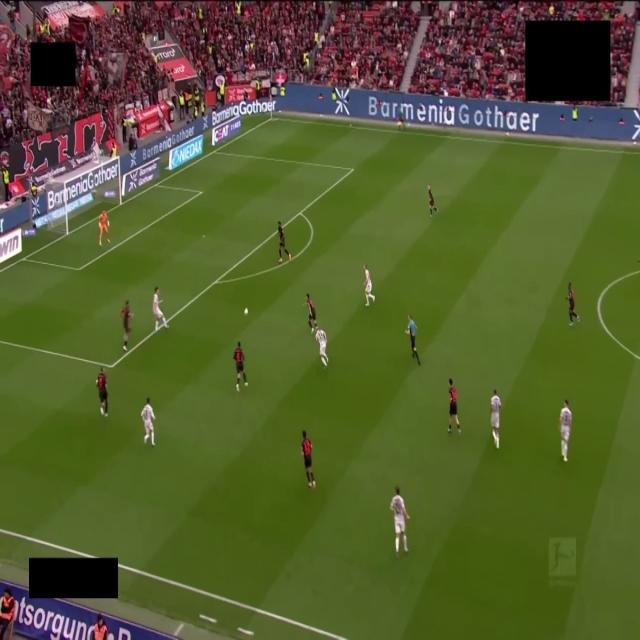ball: (244, 309, 248, 315)
player: (390, 487, 409, 555), (560, 400, 572, 462), (302, 431, 315, 488), (141, 398, 155, 446), (448, 378, 460, 433), (153, 288, 168, 331), (234, 342, 247, 391), (491, 390, 501, 448), (278, 222, 292, 263), (121, 301, 132, 351), (96, 368, 107, 416), (315, 328, 328, 368), (567, 283, 579, 326), (304, 294, 317, 333), (364, 264, 374, 306), (99, 210, 109, 246), (428, 185, 438, 215)
referee: (406, 316, 420, 365)
